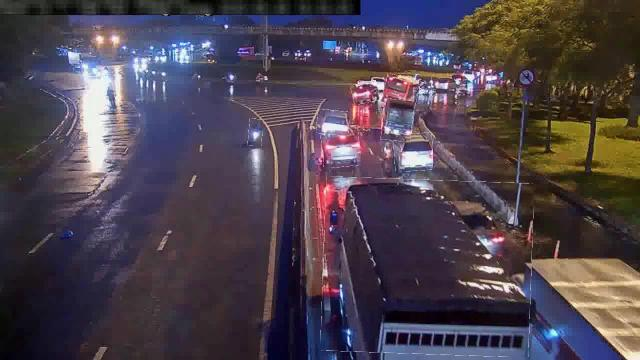Bike: (248, 118, 262, 145), (104, 83, 116, 111)
Bus: (382, 75, 420, 108)
Car: (322, 126, 361, 168), (393, 133, 432, 171), (316, 110, 349, 134), (352, 80, 380, 103), (432, 77, 454, 91)
Truck: (322, 178, 534, 356), (382, 99, 412, 141)
